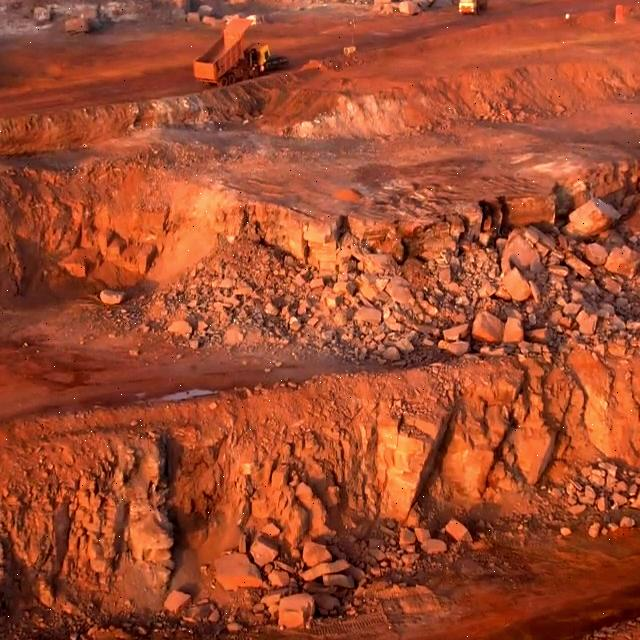Dumper truck: (195, 19, 270, 76), (456, 0, 484, 17)
